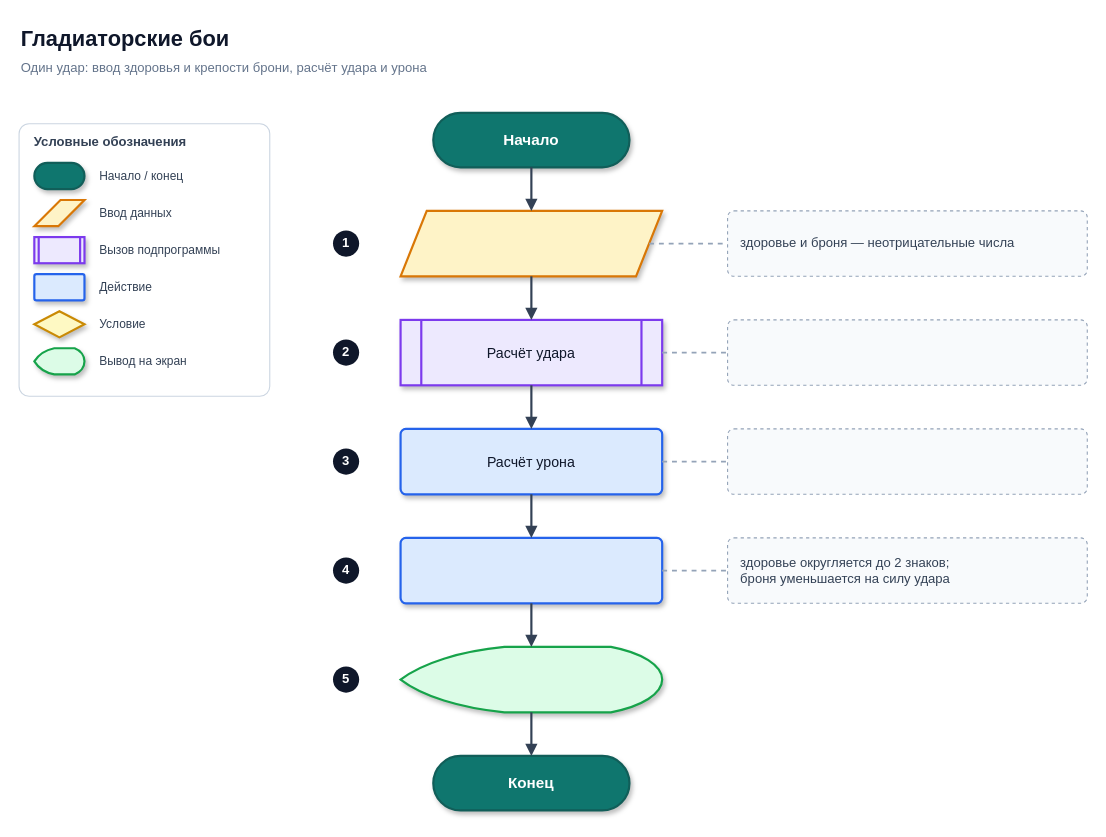
This 1106x837 diagram has some shape labels left out. Each missing label, with the centre of its shape:
Ввод здоровья и крепости брони: (532,244)
Вывод: Здоровье: (532,680)
Здоровье -= урон: (532,571)
удар = случайное число от 0 до брони (округление до 2 знаков): (906,352)
урон = удар × броня / 100: (906,461)
